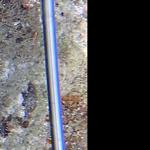dead: (2, 1, 85, 148)
